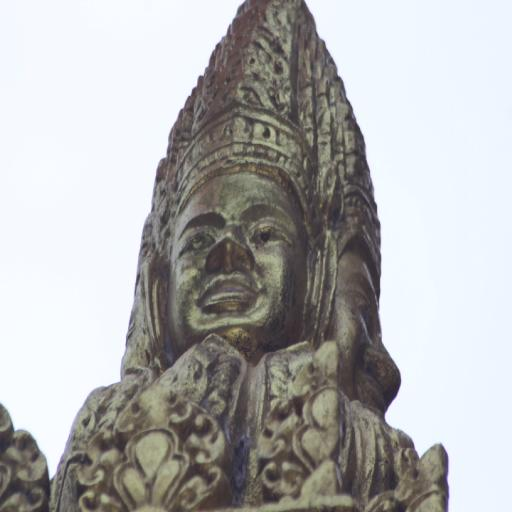than: (88, 0, 431, 512)
